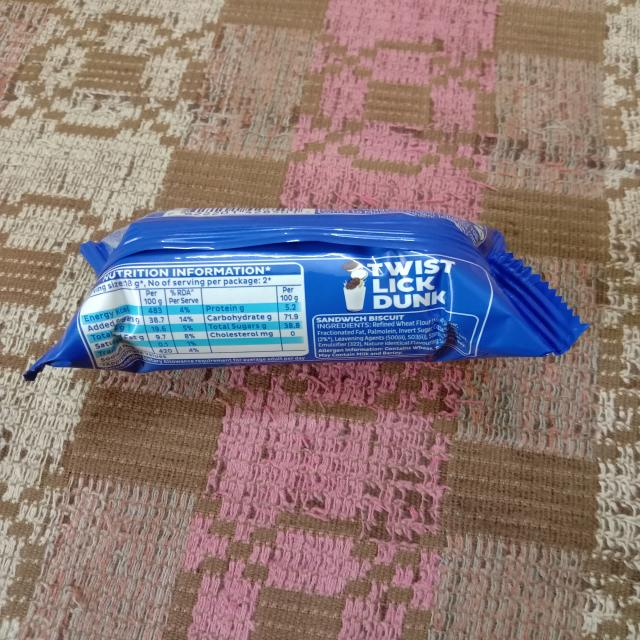oreo biscuit: (24, 206, 590, 387)
